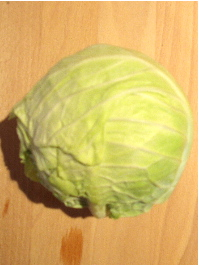cabbage: (13, 43, 193, 220)
